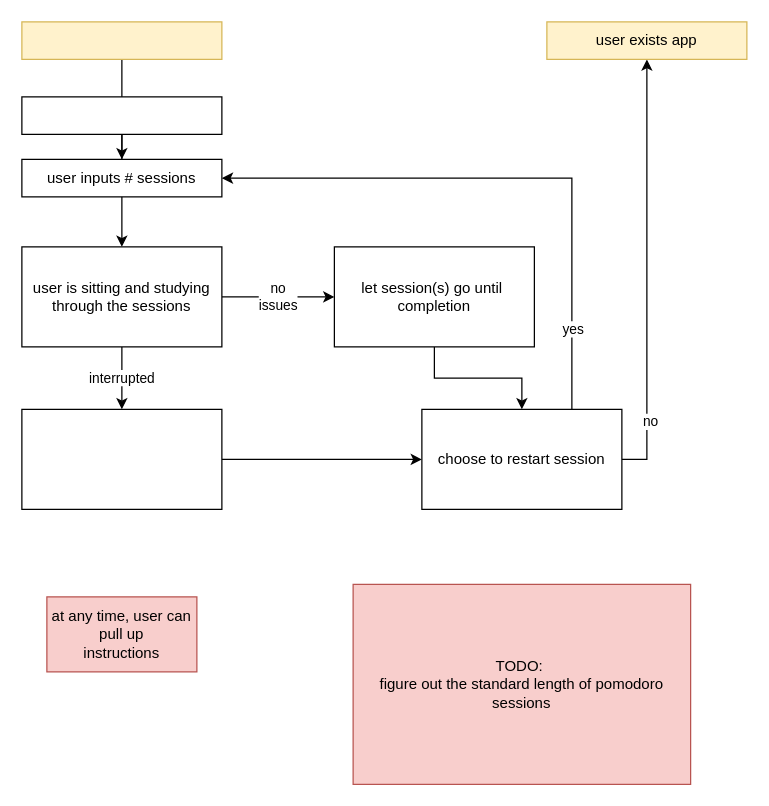
The diagram is 769 pixels wide and 806 high, and some of its shapes have lost their labels. Each missing label, with the centre of its shape:
stop session: the point at 121,458
user enters app: the point at 121,40
user reads instructions: the point at 121,115
